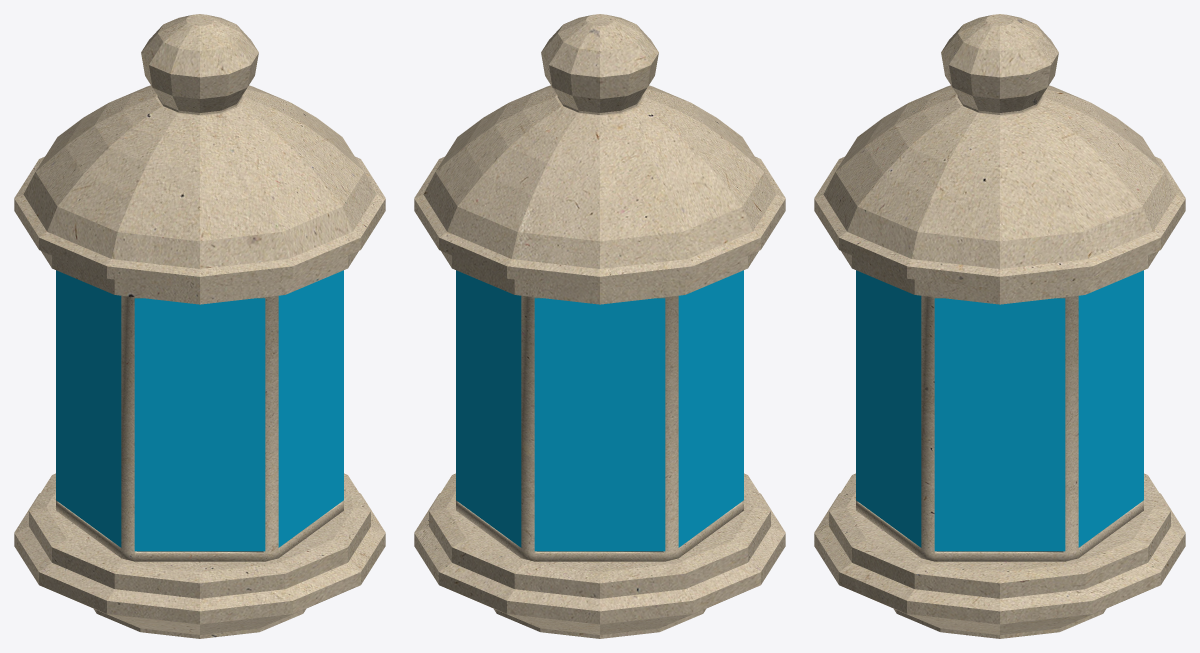
Rendered from Lantern.obj.
3 views of the same model, side by side, from view 1: azimuth 30°, elevation 25°; view 2: azimuth 150°, elevation 25°; view 3: azimuth 270°, elevation 25° (orthographic).
Parts seen in each view (by area): view 1: Cylinder, Cylinder.002_Cylinder.004, Cylinder.001_Cylinder.002; view 2: Cylinder, Cylinder.002_Cylinder.004, Cylinder.001_Cylinder.002; view 3: Cylinder, Cylinder.002_Cylinder.004, Cylinder.001_Cylinder.002.
Boxes of the visible parts, x1=… form: Cylinder: x1=14, y1=14, x2=385, y2=638; Cylinder.002_Cylinder.004: x1=56, y1=270, x2=343, y2=551; Cylinder.001_Cylinder.002: x1=56, y1=295, x2=343, y2=561; Cylinder: x1=414, y1=14, x2=785, y2=638; Cylinder.002_Cylinder.004: x1=456, y1=270, x2=743, y2=551; Cylinder.001_Cylinder.002: x1=456, y1=295, x2=743, y2=561; Cylinder: x1=814, y1=14, x2=1185, y2=638; Cylinder.002_Cylinder.004: x1=856, y1=270, x2=1143, y2=551; Cylinder.001_Cylinder.002: x1=856, y1=295, x2=1143, y2=561.
Size of the model in its own units: 2.17 by 3.67 by 2.17.
Materials: 2 (2 with a texture image).
